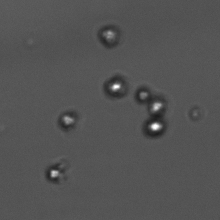Living Cell: (103, 73, 128, 98), (97, 24, 122, 48), (144, 116, 168, 138), (46, 159, 68, 183), (57, 110, 81, 129), (148, 98, 167, 117), (135, 86, 151, 103)
